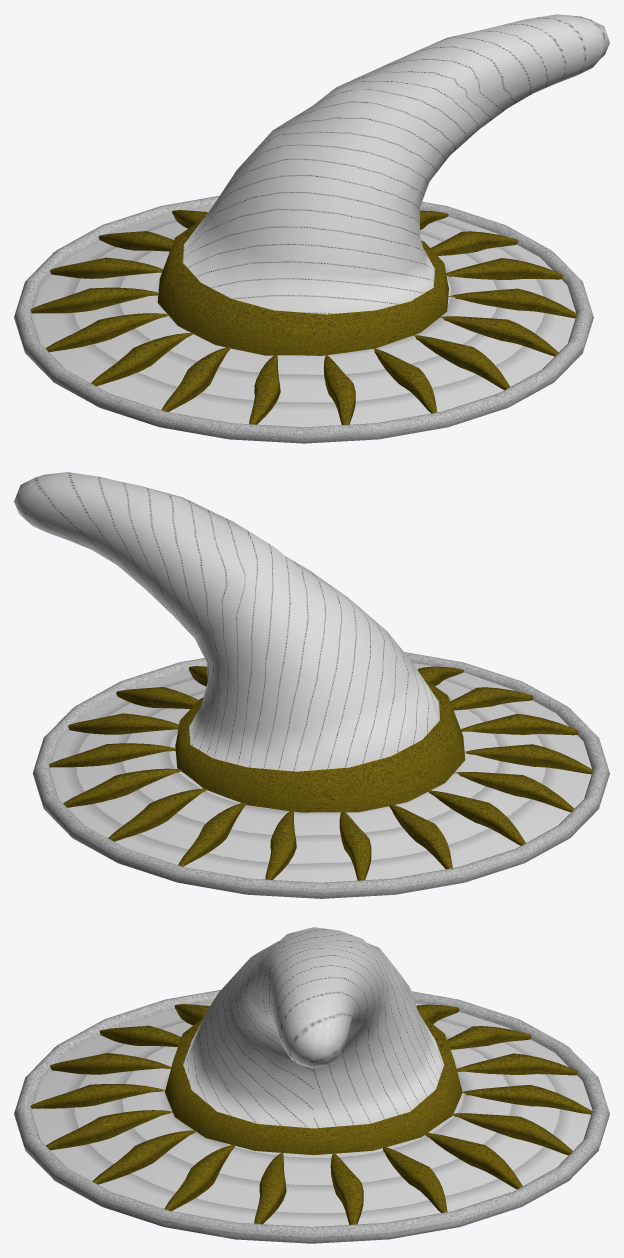
Rendered from HAT5.fbx.
3 renders of one model, top to bottom at view 1: azimuth 30°, elevation 25°; view 2: azimuth 150°, elevation 25°; view 3: azimuth 270°, elevation 25°, orthographic. The views are drawn at different scales.
Visible parts, largest first — view 1: Hat5; view 2: Hat5; view 3: Hat5.
Part boxes in pixels (x1=…): Hat5: x1=14, y1=14, x2=609, y2=443; Hat5: x1=14, y1=472, x2=609, y2=898; Hat5: x1=14, y1=927, x2=609, y2=1243.
Size of the model in its own units: 6670 by 2781 by 6024.
